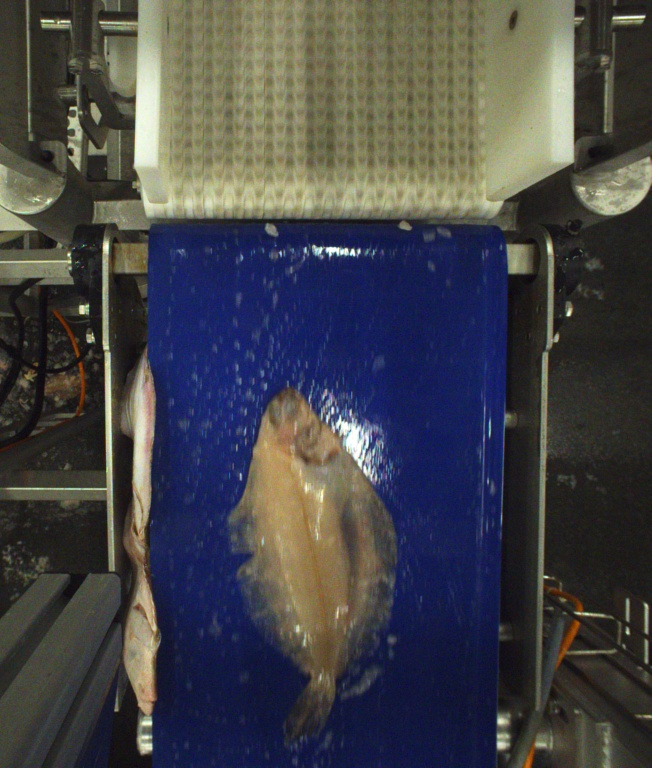WIT: (227, 390, 394, 741)
